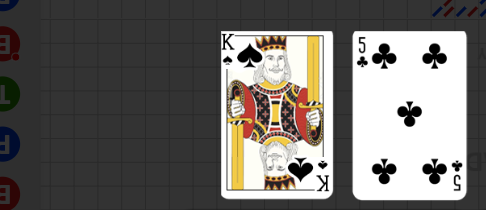5C: (449, 158, 463, 193)
KS: (315, 157, 331, 193)
